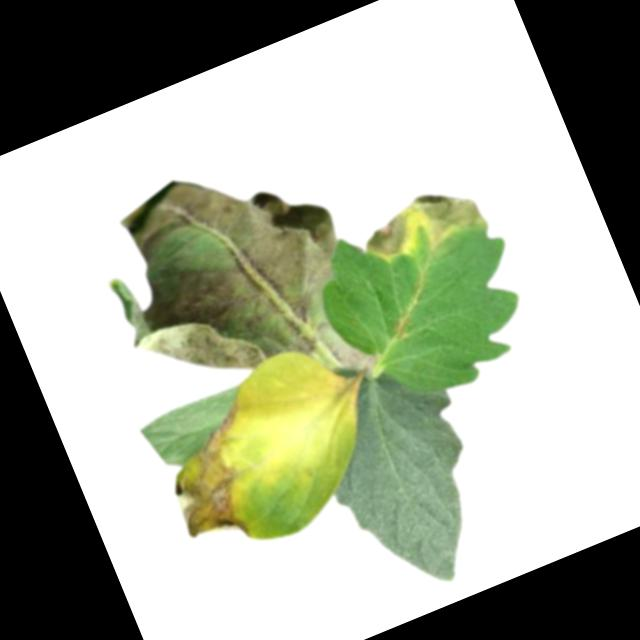Late_blight: (81, 130, 376, 414), (143, 390, 288, 557), (354, 176, 492, 278), (325, 330, 381, 385), (383, 309, 417, 345)
healthy: (297, 350, 514, 609)
